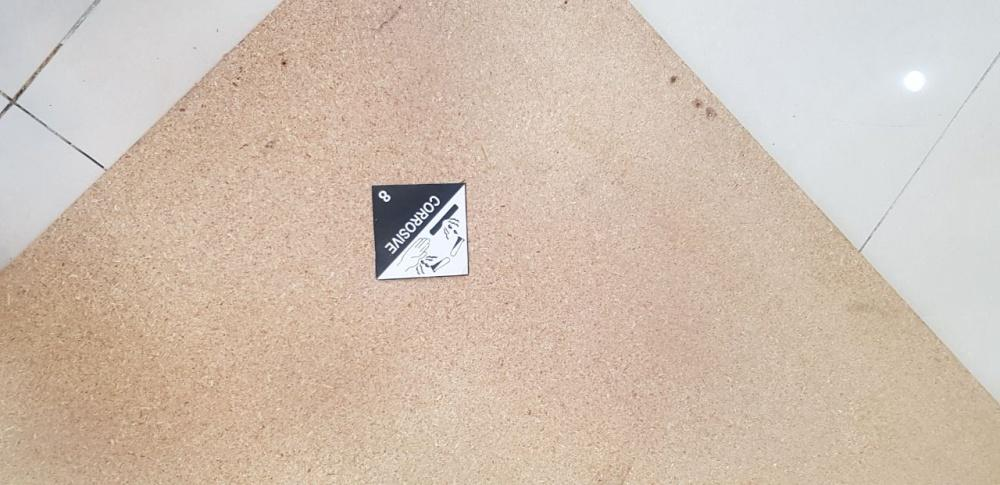corrosive: (372, 184, 469, 280)
